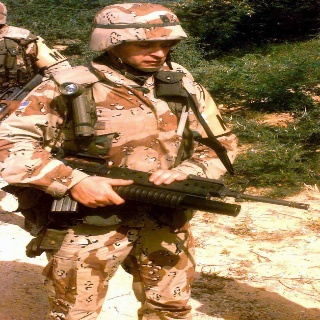rifle: (40, 146, 310, 220)
